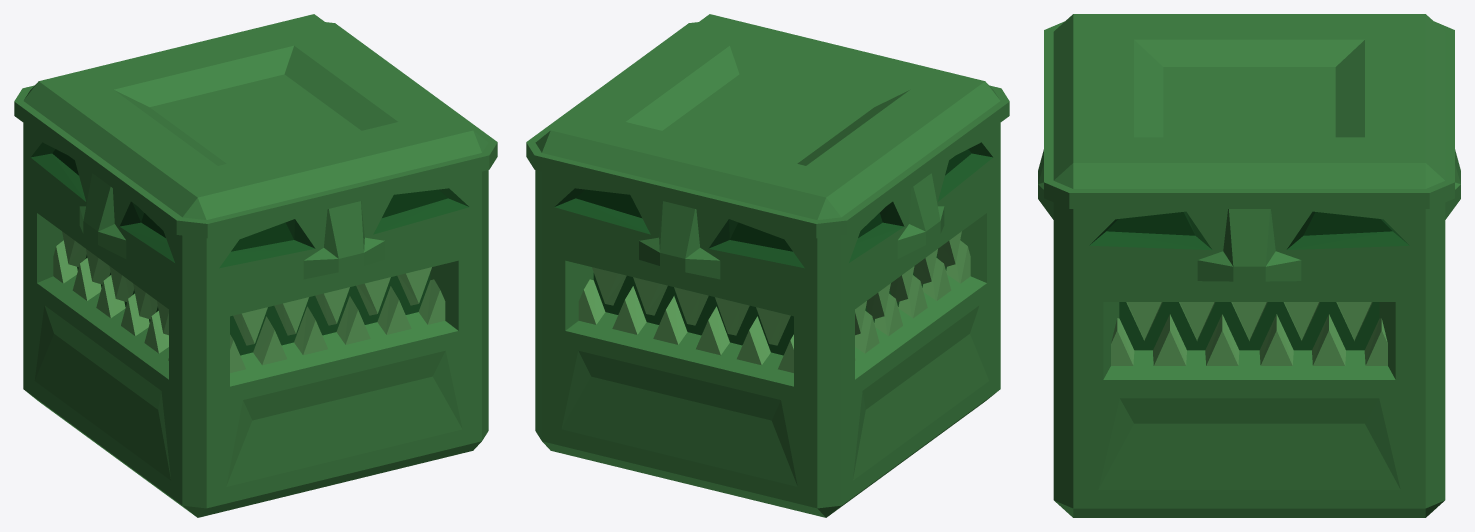
The model's file is m_dec_dung_statueA.fbx.
The picture shows the model from 3 angles, left to right: view 1: azimuth 30°, elevation 25°; view 2: azimuth 150°, elevation 25°; view 3: azimuth 270°, elevation 25°; orthographic projection. The views are drawn at different scales.
Parts seen in each view (by area): view 1: m_dec_dung_statueA; view 2: m_dec_dung_statueA; view 3: m_dec_dung_statueA.
Boxes of the visible parts, box(x1,y1,x2,y2) form: m_dec_dung_statueA: box(14, 14, 497, 517); m_dec_dung_statueA: box(526, 14, 1009, 517); m_dec_dung_statueA: box(1038, 14, 1460, 517).
Size of the model in its own units: 2.16 by 2 by 2.16.
